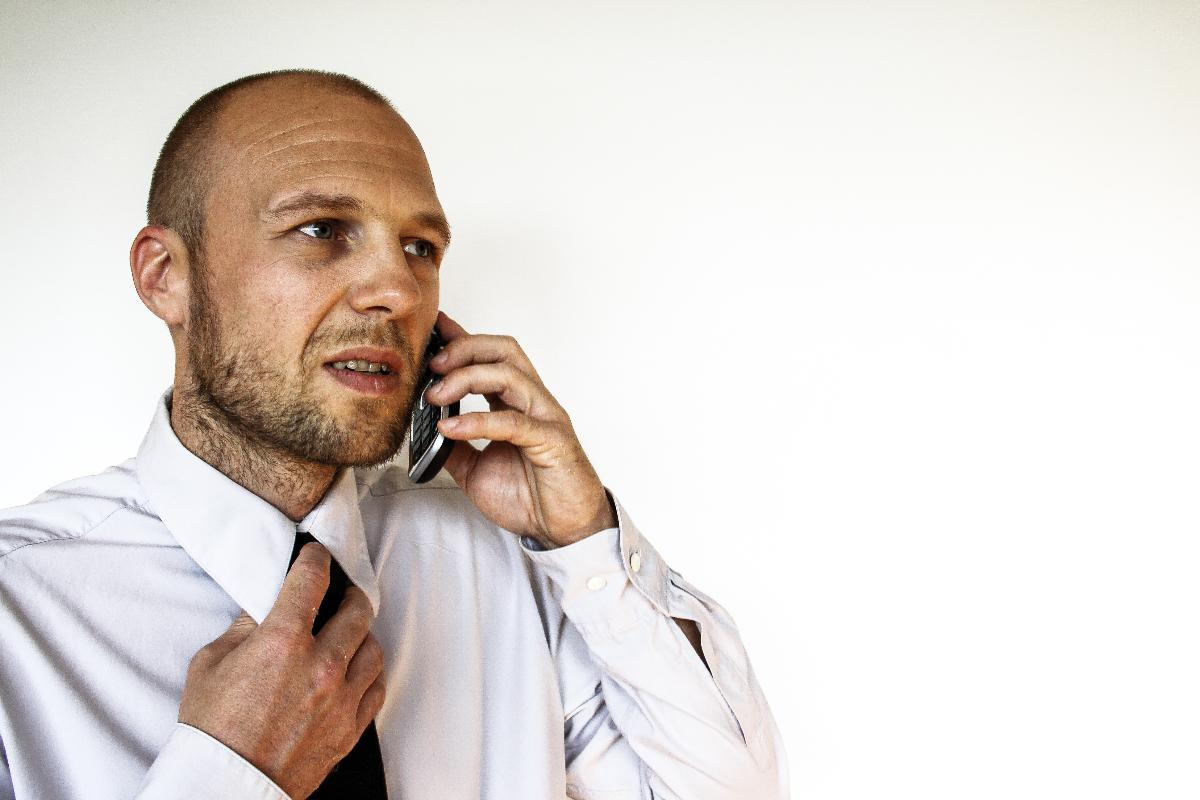Person: (7, 67, 789, 800)
